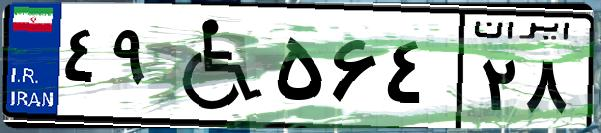2: (475, 38, 525, 113)
4: (385, 28, 445, 110), (57, 26, 110, 100)
5: (270, 28, 330, 110)
6: (330, 28, 385, 110)
8: (525, 38, 570, 115)
9: (110, 28, 158, 98)
ژ (معلولین و جانبازان): (158, 12, 270, 120)
